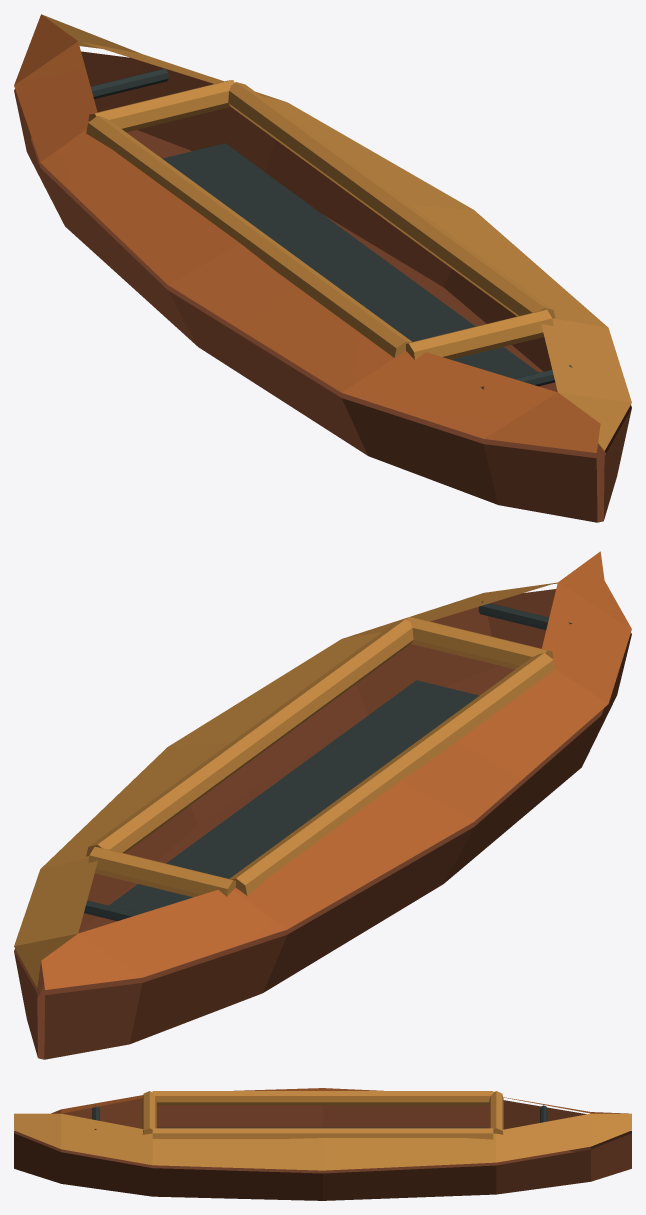
File: qizhen_kayak.glb
3 views of the same model, one above another, from view 1: azimuth 30°, elevation 25°; view 2: azimuth 150°, elevation 25°; view 3: azimuth 270°, elevation 25° (orthographic). The views are drawn at different scales.
Visible parts, largest first — view 1: Kayak_Continuous_Hull, Cockpit_Dark_Recess, Kayak_Deck.002, Kayak_Deck.003, Cockpit_Rim.001, Kayak_Deck.001, Cockpit_Rim, Kayak_Deck.004, Kayak_Deck.008, Kayak_Deck.007, Kayak_Deck.009, Kayak_Deck (+7 smaller); view 2: Kayak_Continuous_Hull, Cockpit_Dark_Recess, Kayak_Deck.003, Kayak_Deck.002, Cockpit_Rim.001, Kayak_Deck.004, Cockpit_Rim, Kayak_Deck.001, Kayak_Deck.009, Kayak_Deck.008, Kayak_Deck.010, Cockpit_End_Rim.001 (+6 smaller); view 3: Kayak_Continuous_Hull, Kayak_Deck.009, Kayak_Deck.008, Cockpit_Rim, Cockpit_Rim.001, Kayak_Deck.007, Kayak_Deck.010, Kayak_Deck.006, Kayak_Deck.011, Cockpit_Dark_Recess, Cockpit_End_Rim, Cockpit_End_Rim.001 (+1 smaller).
Boxes of the visible parts, box(x1,y1,x2,y2) form: Kayak_Continuous_Hull: box(14, 51, 631, 522); Cockpit_Dark_Recess: box(162, 143, 538, 378); Kayak_Deck.002: box(168, 243, 393, 392); Kayak_Deck.003: box(40, 129, 240, 284); Cockpit_Rim.001: box(228, 82, 555, 318); Kayak_Deck.001: box(342, 351, 557, 438); Cockpit_Rim: box(86, 116, 411, 357); Kayak_Deck.004: box(14, 41, 97, 162); Kayak_Deck.008: box(411, 205, 607, 327); Kayak_Deck.007: box(541, 318, 631, 402); Kayak_Deck.009: box(262, 96, 473, 209); Kayak_Deck: box(484, 392, 600, 452); Kayak_Continuous_Hull: box(14, 589, 631, 1059); Cockpit_Dark_Recess: box(109, 680, 479, 913); Kayak_Deck.003: box(233, 781, 473, 929); Kayak_Deck.002: box(401, 669, 608, 821); Cockpit_Rim.001: box(86, 619, 413, 856); Kayak_Deck.004: box(78, 890, 287, 977); Cockpit_Rim: box(229, 653, 555, 895); Kayak_Deck.001: box(541, 583, 631, 703); Kayak_Deck.009: box(41, 742, 230, 868); Kayak_Deck.008: box(168, 632, 380, 746); Kayak_Deck.010: box(14, 857, 97, 946); Cockpit_End_Rim.001: box(88, 847, 235, 897); Kayak_Continuous_Hull: box(14, 1098, 631, 1200); Kayak_Deck.009: box(323, 1133, 496, 1170); Kayak_Deck.008: box(152, 1138, 322, 1170); Cockpit_Rim: box(152, 1091, 493, 1105); Cockpit_Rim.001: box(152, 1128, 493, 1139); Kayak_Deck.007: box(61, 1113, 152, 1165); Kayak_Deck.010: box(496, 1113, 590, 1162); Kayak_Deck.006: box(14, 1113, 61, 1148); Kayak_Deck.011: box(591, 1113, 631, 1146); Cockpit_Dark_Recess: box(157, 1127, 488, 1128); Cockpit_End_Rim: box(142, 1091, 156, 1134); Cockpit_End_Rim.001: box(489, 1091, 503, 1134).
Size of the model in its own units: 0.62 by 0.204 by 1.96.
4 materials, 1 textured.
